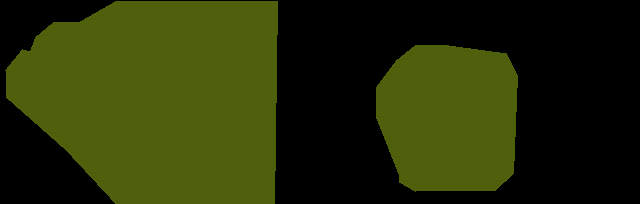Train: (5, 1, 278, 204), (376, 45, 517, 191)
